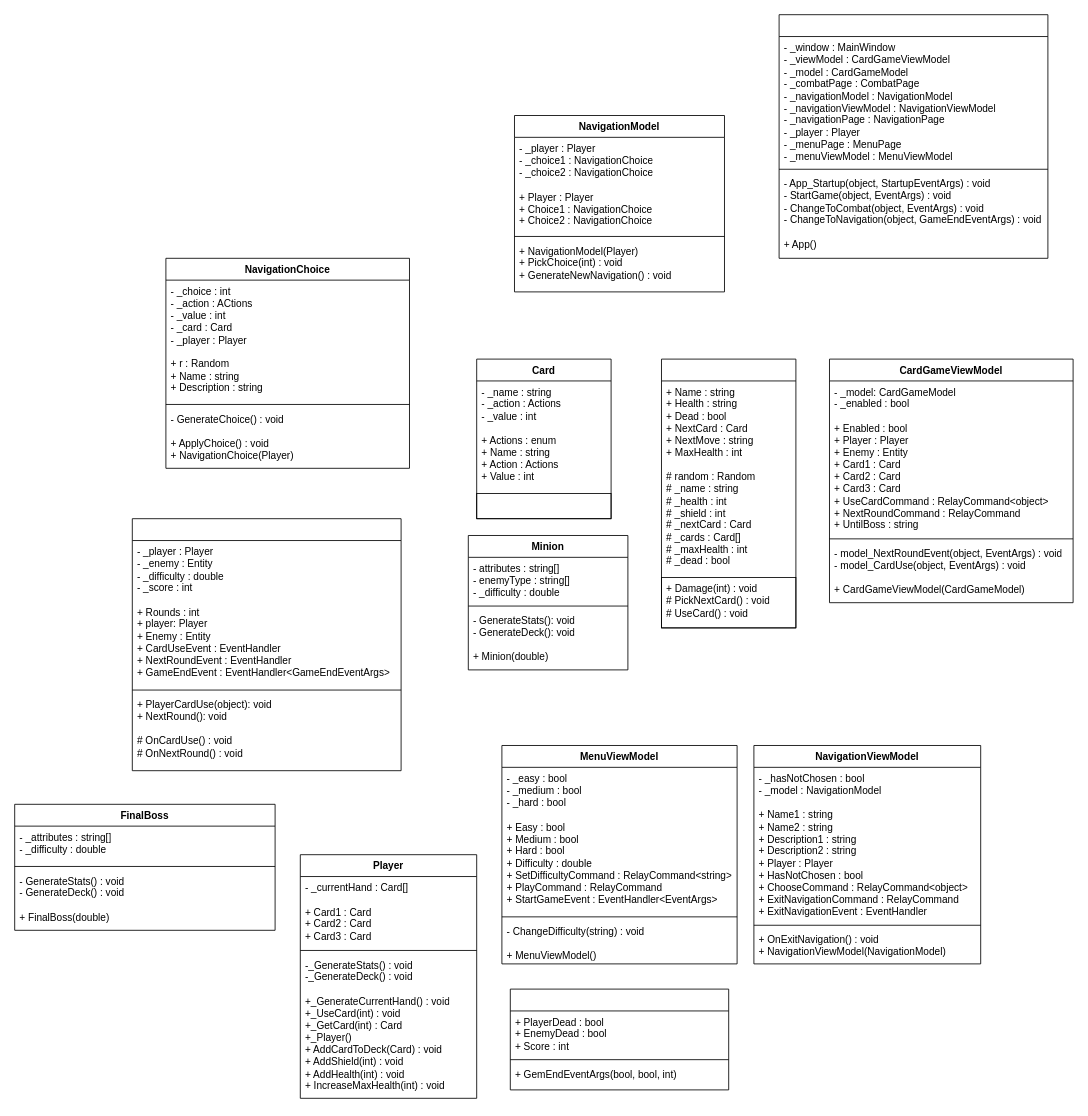
Image size: 1088x1116. Some labels were removed from this diagram. Each missing label, with the box of its shape:
+ Card(string, Actions, int): (476, 493, 611, 519)
CardGameModel: (131, 518, 401, 771)
Classname: (778, 14, 1048, 258)
Entity: (661, 358, 796, 628)
GameEndEventArgs: (509, 988, 729, 1090)
